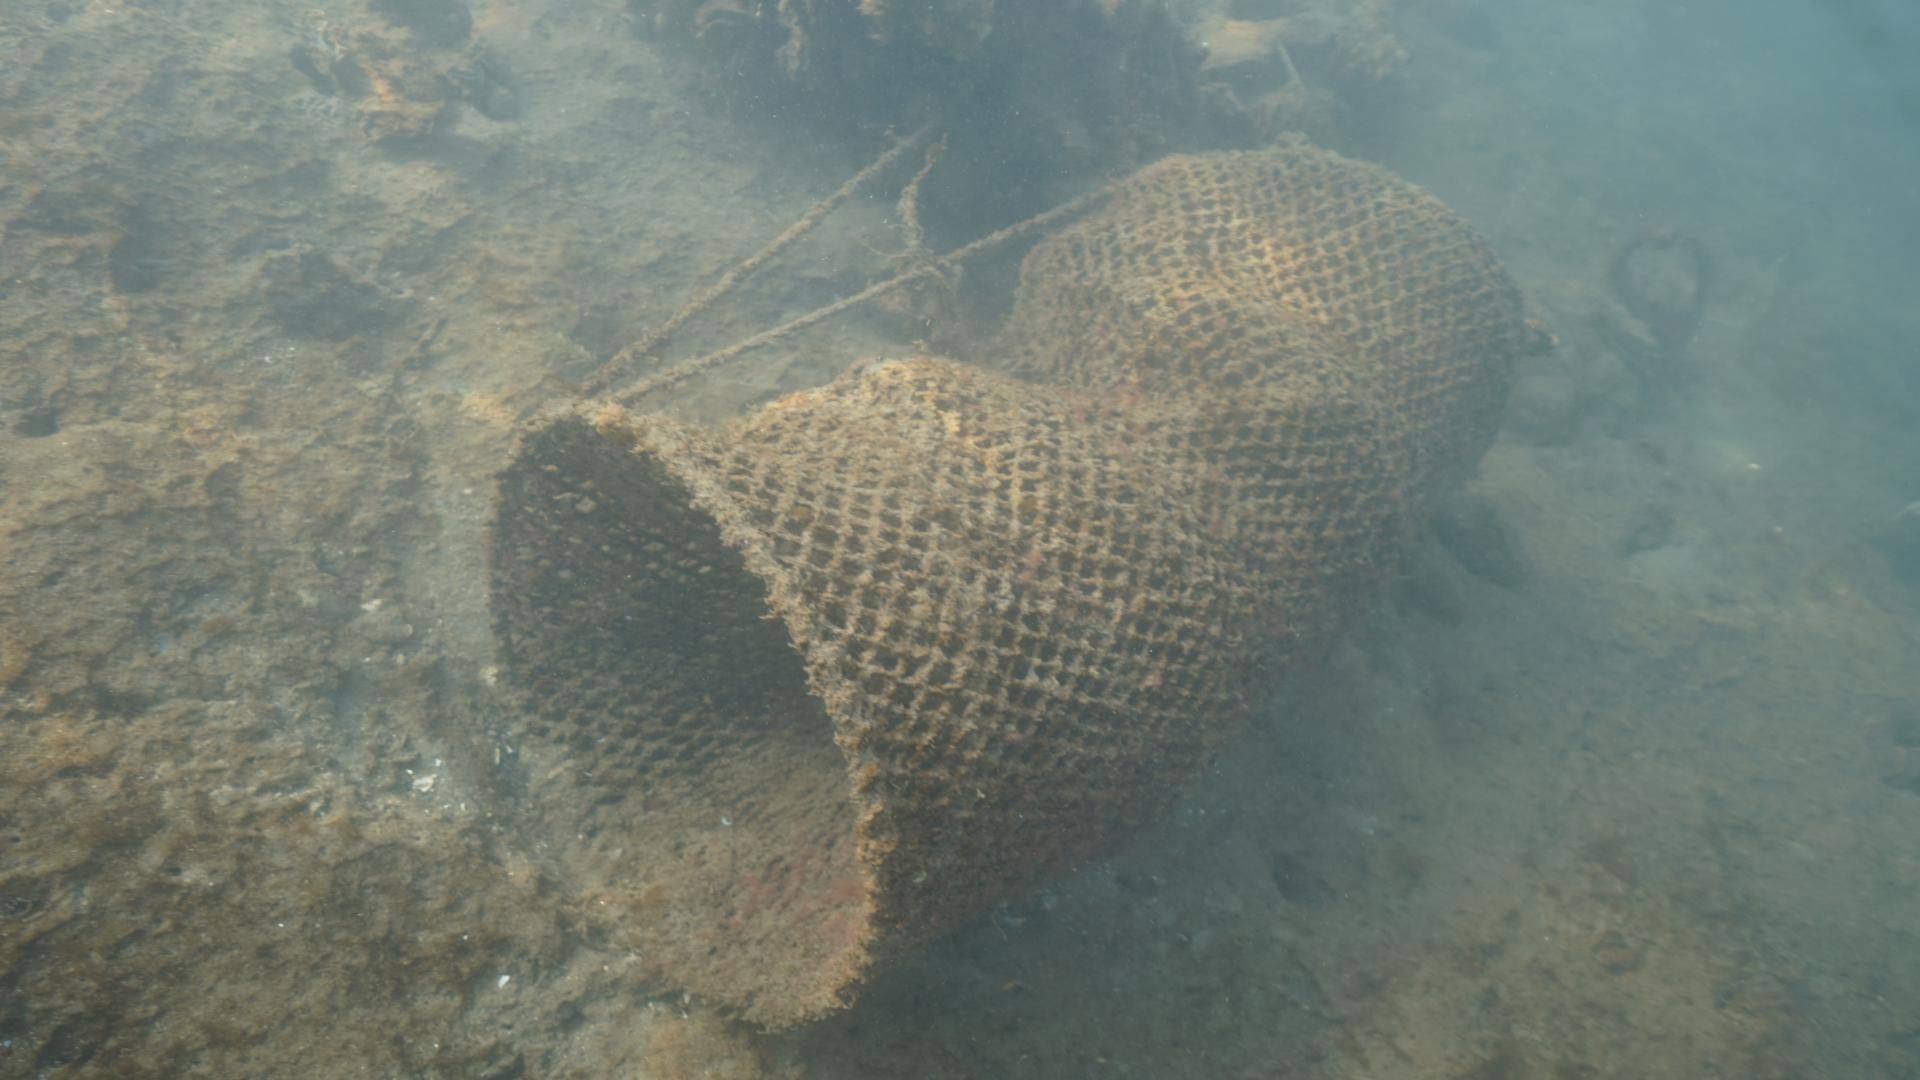rope: (564, 149, 1184, 406), (574, 117, 932, 396)
spring fish trap: (475, 140, 1539, 1044)
